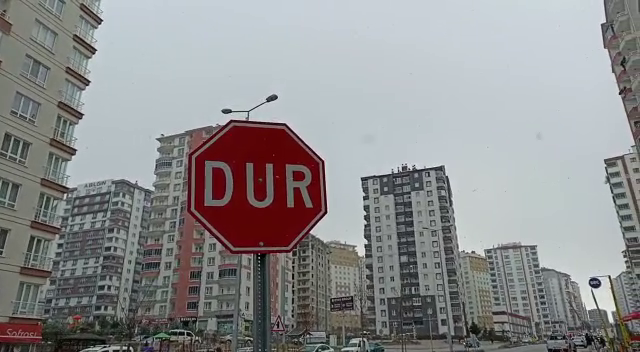stop: (186, 118, 330, 256)
